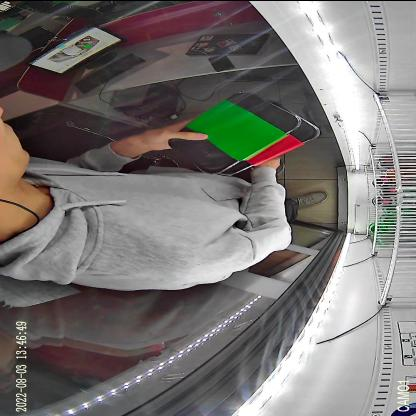green: (168, 90, 302, 173)
red: (216, 98, 322, 175)
